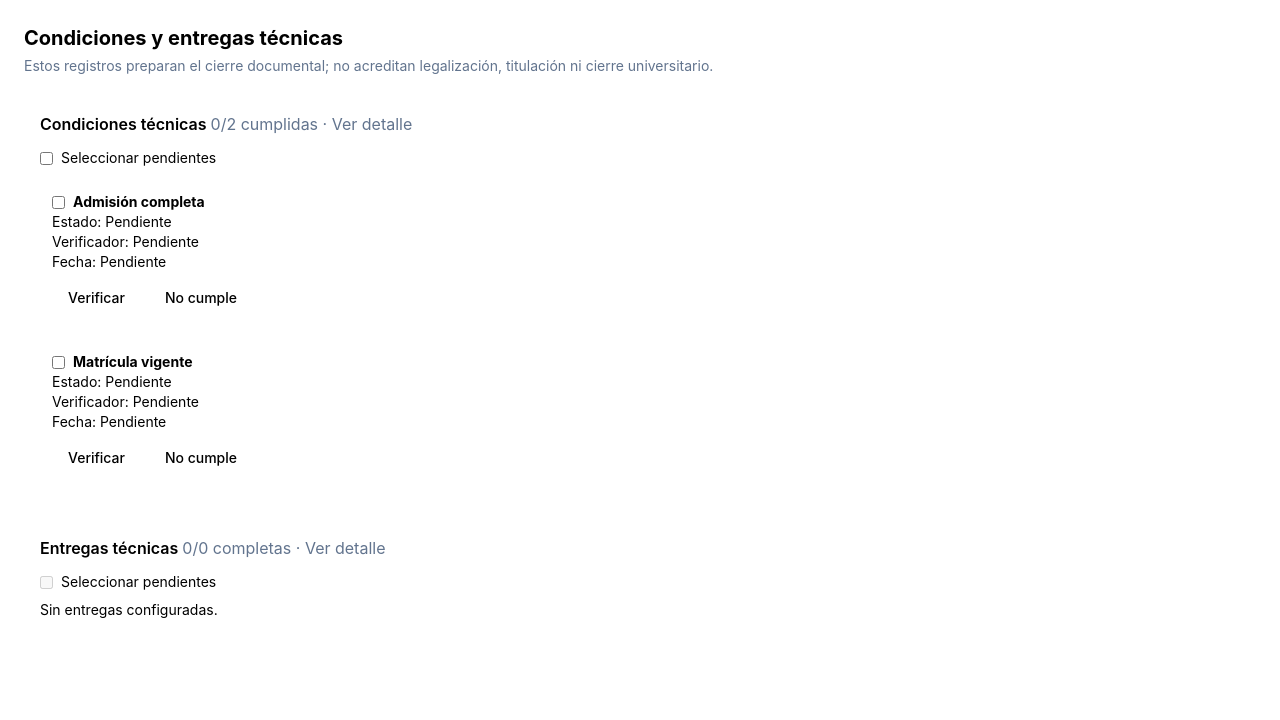
ClosureRequirements › abre Verificar junto a la condición seleccionada
Check: the text "Admisión completa" is shown, box top-left (73, 192), bottom-right (205, 212)
Step 1. Click the button "Verificar" below "Matrícula vigente" → (96, 458), box top-left (52, 440), bottom-right (141, 476)
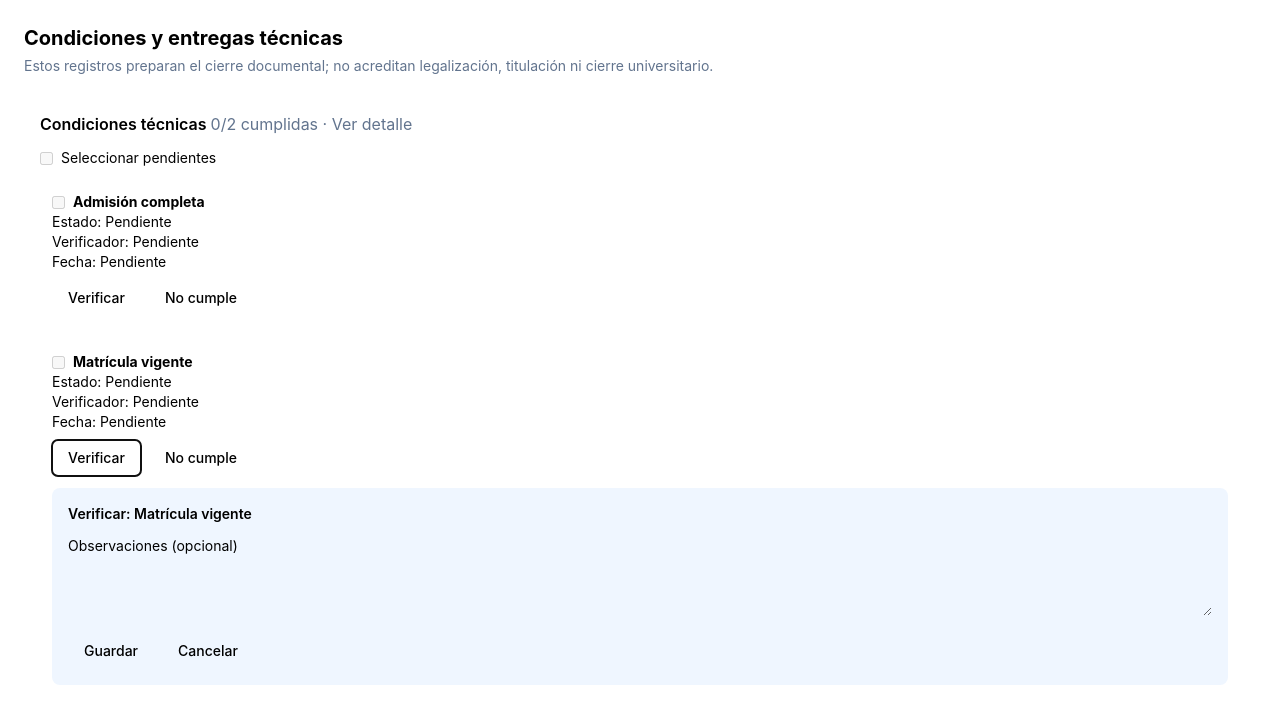
Check: the form "Verificar: Matrícula vigente" is shown, box top-left (52, 488), bottom-right (1228, 685)
